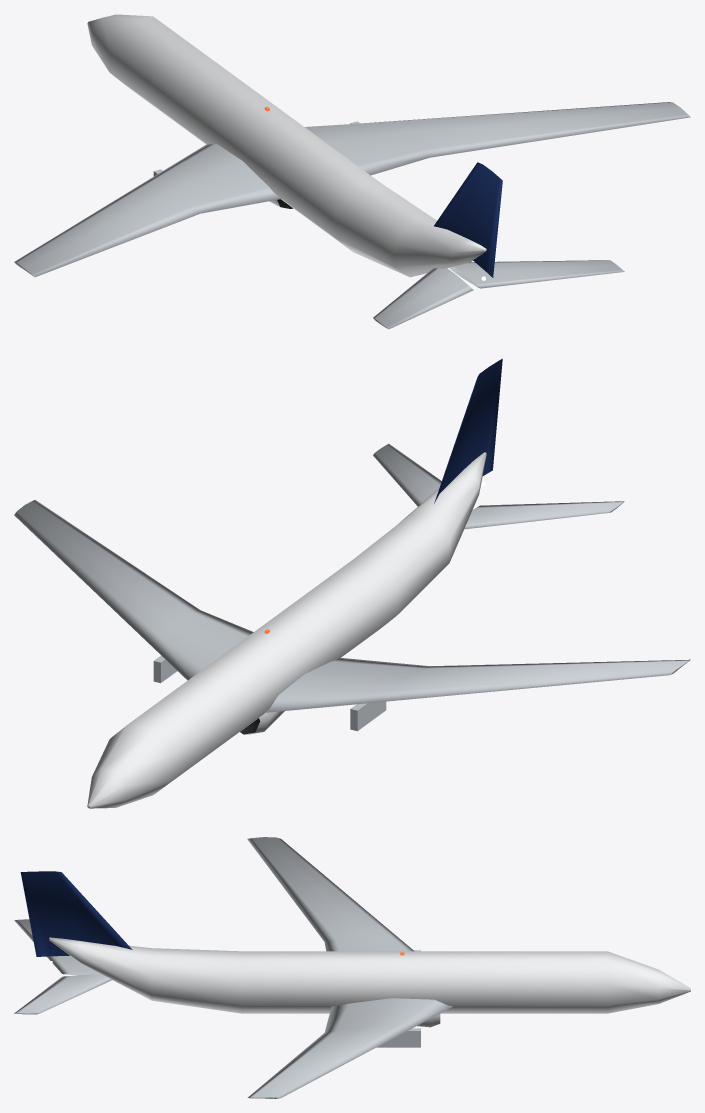
File: fleet_heavy2_lod2.glb
The picture shows the model from 3 angles, top to bottom: view 1: azimuth 30°, elevation 25°; view 2: azimuth 150°, elevation 25°; view 3: azimuth 270°, elevation 25°; orthographic projection. The views are drawn at different scales.
Visible parts, largest first — view 1: fleet_heavy2_lod2_wing, fleet_heavy2_lod2_white, fleet_heavy2_lod2_blue; view 2: fleet_heavy2_lod2_white, fleet_heavy2_lod2_wing, fleet_heavy2_lod2_blue; view 3: fleet_heavy2_lod2_white, fleet_heavy2_lod2_wing, fleet_heavy2_lod2_blue.
Part boxes in pixels (x1,y1,x2,y2): fleet_heavy2_lod2_wing: [14, 102, 690, 329]; fleet_heavy2_lod2_white: [87, 14, 486, 277]; fleet_heavy2_lod2_blue: [434, 162, 502, 277]; fleet_heavy2_lod2_white: [87, 452, 486, 808]; fleet_heavy2_lod2_wing: [14, 443, 690, 731]; fleet_heavy2_lod2_blue: [434, 358, 502, 503]; fleet_heavy2_lod2_white: [49, 937, 690, 1013]; fleet_heavy2_lod2_wing: [14, 837, 452, 1098]; fleet_heavy2_lod2_blue: [20, 871, 132, 956].
Bounding box in the file's own units: 60.9 × 16.93 × 67.21.
